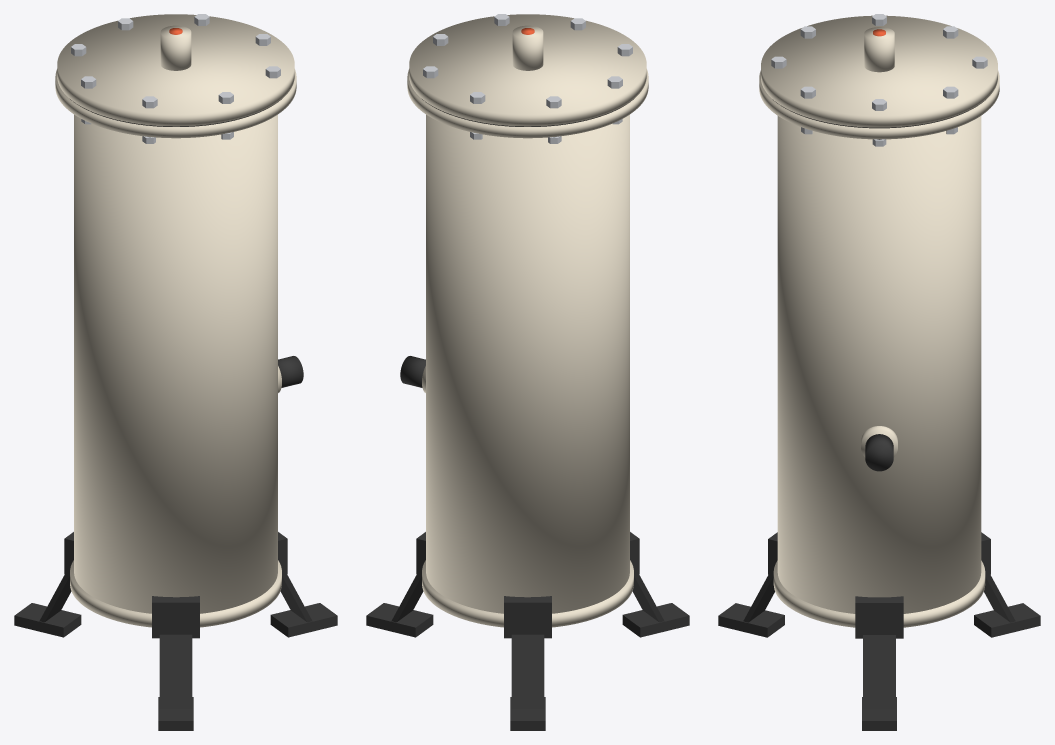
File: filter.glb
The picture shows the model from 3 angles, left to right: view 1: azimuth 30°, elevation 25°; view 2: azimuth 150°, elevation 25°; view 3: azimuth 270°, elevation 25°; orthographic projection.
Parts seen in each view (by area): view 1: Body_Main, Top_Lid, Top_Flange, Body_Bottom_Collar, Leg_Bar_3, Leg_Bracket_3, Leg_Foot_1, Leg_Foot_2, Top_Nozzle, Leg_Foot_3, Side_Port_1_2_NPT, Leg_Bar_1 (+1 smaller); view 2: Body_Main, Top_Lid, Top_Flange, Body_Bottom_Collar, Leg_Bar_2, Leg_Bracket_2, Leg_Foot_1, Leg_Foot_3, Top_Nozzle, Leg_Foot_2, Side_Port_1_2_NPT, Leg_Bar_1 (+1 smaller); view 3: Body_Main, Top_Lid, Top_Flange, Body_Bottom_Collar, Leg_Bar_1, Leg_Bracket_1, Leg_Foot_2, Leg_Foot_3, Top_Nozzle, Side_Port_1_2_NPT, Leg_Foot_1, Leg_Bar_2 (+1 smaller).
Part boxes in pixels (<box>): Body_Main: <box>74,114,277,613</box>; Top_Lid: <box>57,14,294,126</box>; Top_Flange: <box>55,69,296,138</box>; Body_Bottom_Collar: <box>70,560,281,627</box>; Leg_Bar_3: <box>159,634,192,708</box>; Leg_Bracket_3: <box>152,596,199,638</box>; Leg_Foot_1: <box>270,603,337,637</box>; Leg_Foot_2: <box>14,603,81,637</box>; Top_Nozzle: <box>160,25,191,70</box>; Leg_Foot_3: <box>158,697,193,730</box>; Side_Port_1_2_NPT: <box>278,356,303,387</box>; Leg_Bar_1: <box>280,574,312,622</box>; Body_Main: <box>426,114,629,613</box>; Top_Lid: <box>409,14,646,126</box>; Top_Flange: <box>407,69,648,138</box>; Body_Bottom_Collar: <box>422,560,633,627</box>; Leg_Bar_2: <box>511,634,544,708</box>; Leg_Bracket_2: <box>504,596,551,638</box>; Leg_Foot_1: <box>366,603,433,637</box>; Leg_Foot_3: <box>622,603,689,637</box>; Top_Nozzle: <box>512,25,543,70</box>; Leg_Foot_2: <box>510,697,545,730</box>; Side_Port_1_2_NPT: <box>400,356,425,387</box>; Leg_Bar_1: <box>391,574,423,622</box>; Body_Main: <box>777,116,981,613</box>; Top_Lid: <box>761,15,997,127</box>; Top_Flange: <box>759,70,999,139</box>; Body_Bottom_Collar: <box>773,560,985,627</box>; Leg_Bar_1: <box>863,635,895,709</box>; Leg_Bracket_1: <box>855,596,903,638</box>; Leg_Foot_2: <box>974,603,1040,637</box>; Leg_Foot_3: <box>718,603,784,637</box>; Top_Nozzle: <box>864,27,894,72</box>; Side_Port_1_2_NPT: <box>865,434,893,471</box>; Leg_Foot_1: <box>862,697,896,730</box>; Leg_Bar_2: <box>984,575,1015,622</box>.
Size of what is drawn, in the model's own units: 0.271 by 0.63 by 0.2949.
